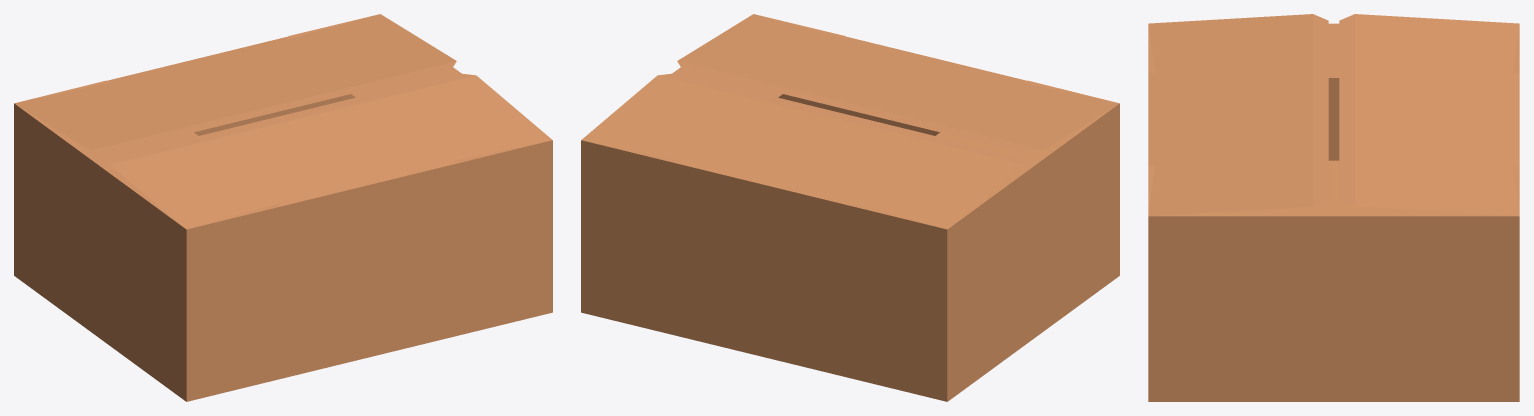
Rendered from BoxClosed_TFSGJ_Spring2025.fbx.
3 renders of one model, left to right at view 1: azimuth 30°, elevation 25°; view 2: azimuth 150°, elevation 25°; view 3: azimuth 270°, elevation 25°, orthographic. The views are drawn at different scales.
Visible parts, largest first — view 1: Box; view 2: Box; view 3: Box.
Part boxes in pixels (x1,y1,x2,y2): Box: [14, 14, 552, 401]; Box: [581, 14, 1119, 401]; Box: [1148, 14, 1519, 401].
Bounding box in the file's own units: 39.71 × 18.78 × 32.37.
